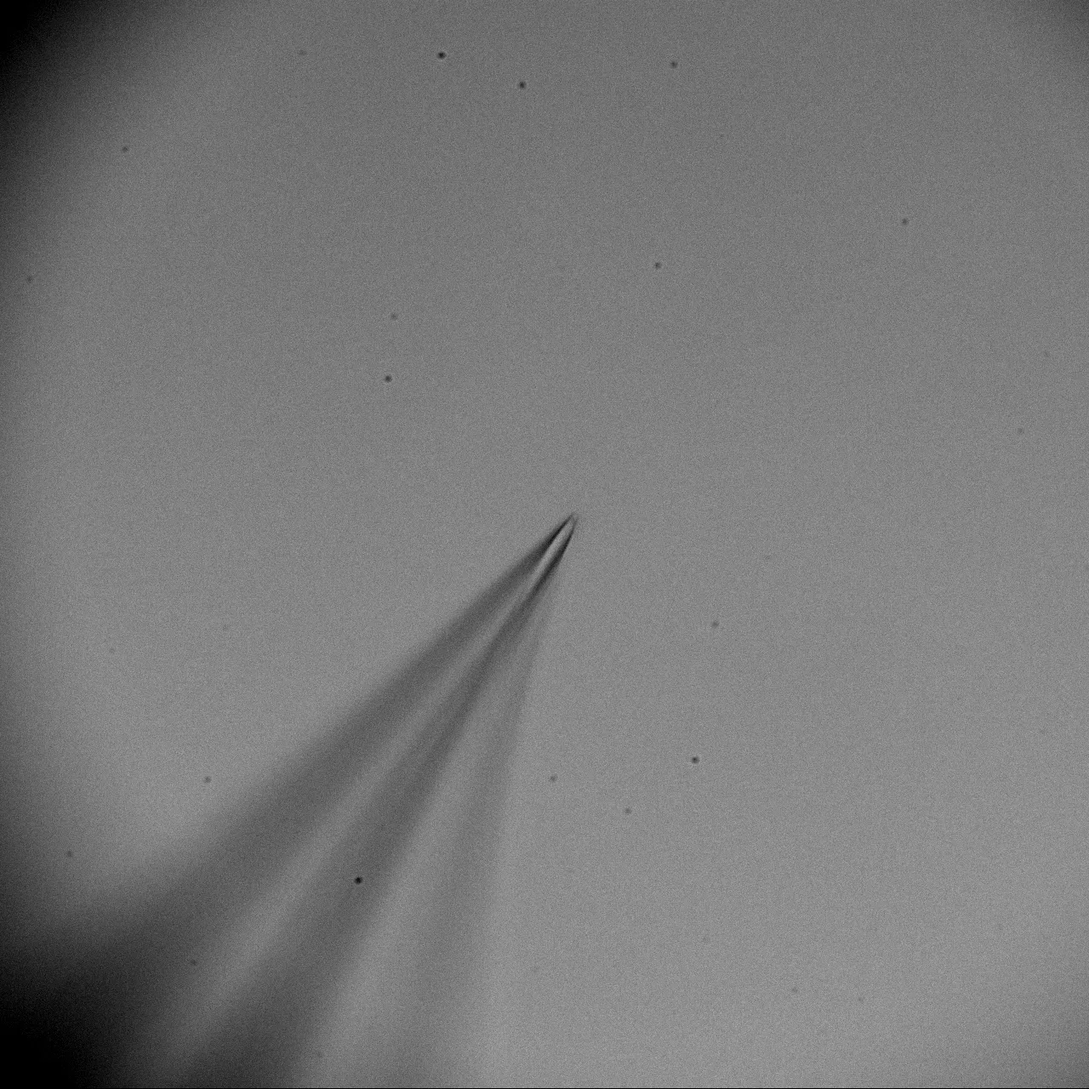tip: (513, 491, 588, 621)
